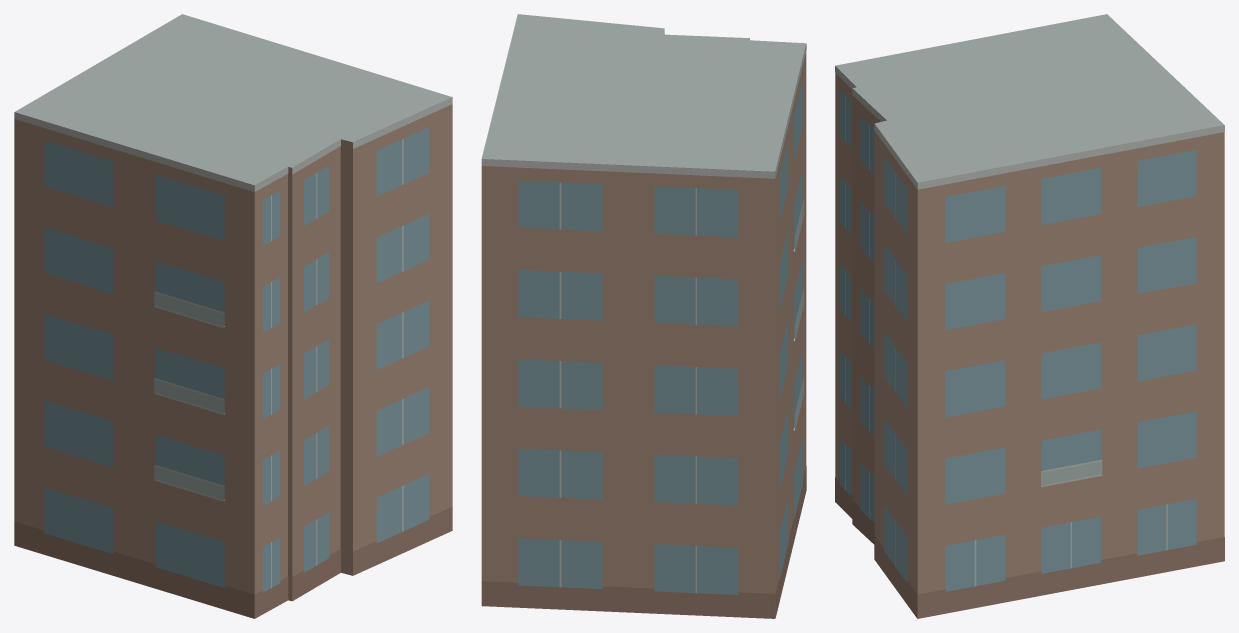
The model's file is survey-upis-32688487.glb.
The picture shows the model from 3 angles, left to right: view 1: azimuth 30°, elevation 25°; view 2: azimuth 150°, elevation 25°; view 3: azimuth 270°, elevation 25°; orthographic projection. The views are drawn at different scales.
Visible parts, largest first — view 1: survey-upis-32688487.tmp; view 2: survey-upis-32688487.tmp; view 3: survey-upis-32688487.tmp.
Boxes of the visible parts, <box> form: survey-upis-32688487.tmp: <box>14,14,452,618</box>; survey-upis-32688487.tmp: <box>481,14,806,618</box>; survey-upis-32688487.tmp: <box>835,14,1224,618</box>.
Bounding box in the file's own units: 12.88 × 15.5 × 12.56.
